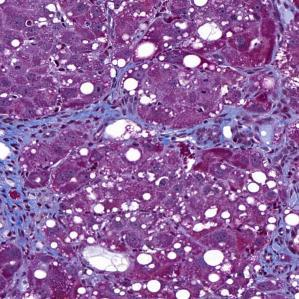fibrosis: (4, 115, 67, 248), (83, 98, 169, 143), (214, 108, 290, 157)
